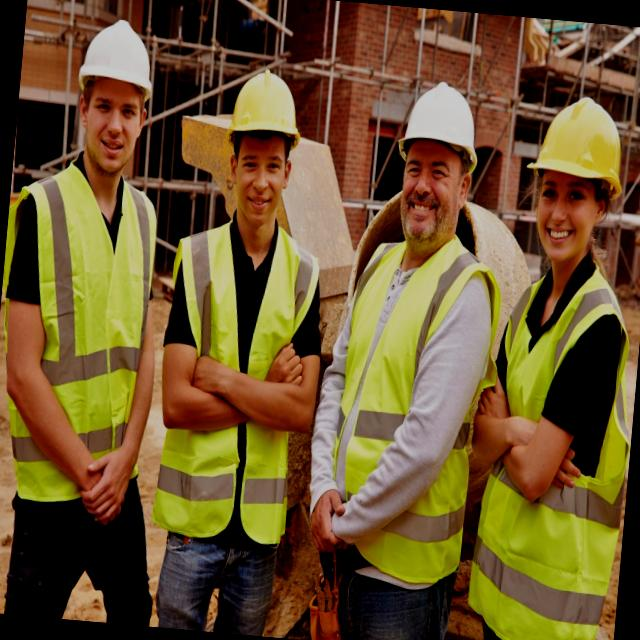helmet: (524, 89, 634, 194), (72, 15, 164, 102), (394, 79, 485, 166), (221, 70, 308, 154)
vest: (474, 259, 640, 640), (0, 149, 169, 523), (150, 210, 326, 557), (328, 242, 498, 586)
